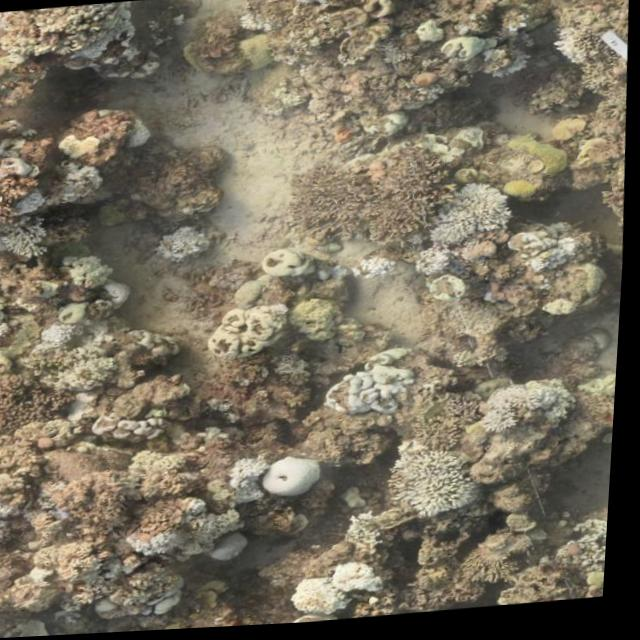Bleached Coral: (324, 350, 419, 425), (424, 183, 524, 254), (231, 243, 319, 320), (290, 563, 401, 620), (399, 450, 482, 526), (205, 298, 298, 364), (491, 382, 573, 439), (269, 447, 335, 510), (515, 225, 580, 280), (156, 217, 222, 266), (0, 214, 66, 261), (228, 452, 278, 514), (548, 22, 600, 77), (40, 314, 102, 359), (347, 251, 402, 291), (129, 528, 190, 562), (0, 185, 67, 215), (418, 244, 461, 286), (0, 510, 29, 545), (555, 0, 630, 4)
